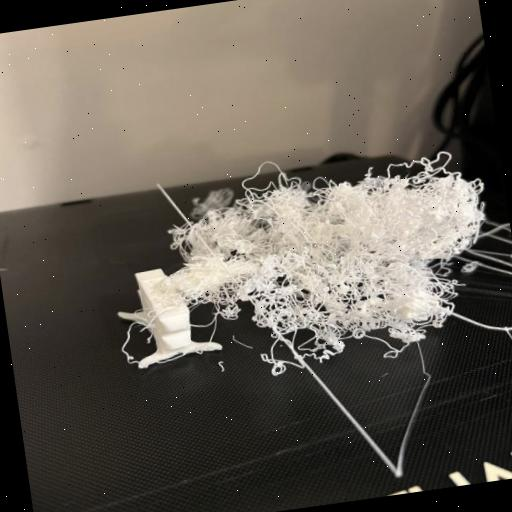spaghetti: (184, 162, 478, 352)
